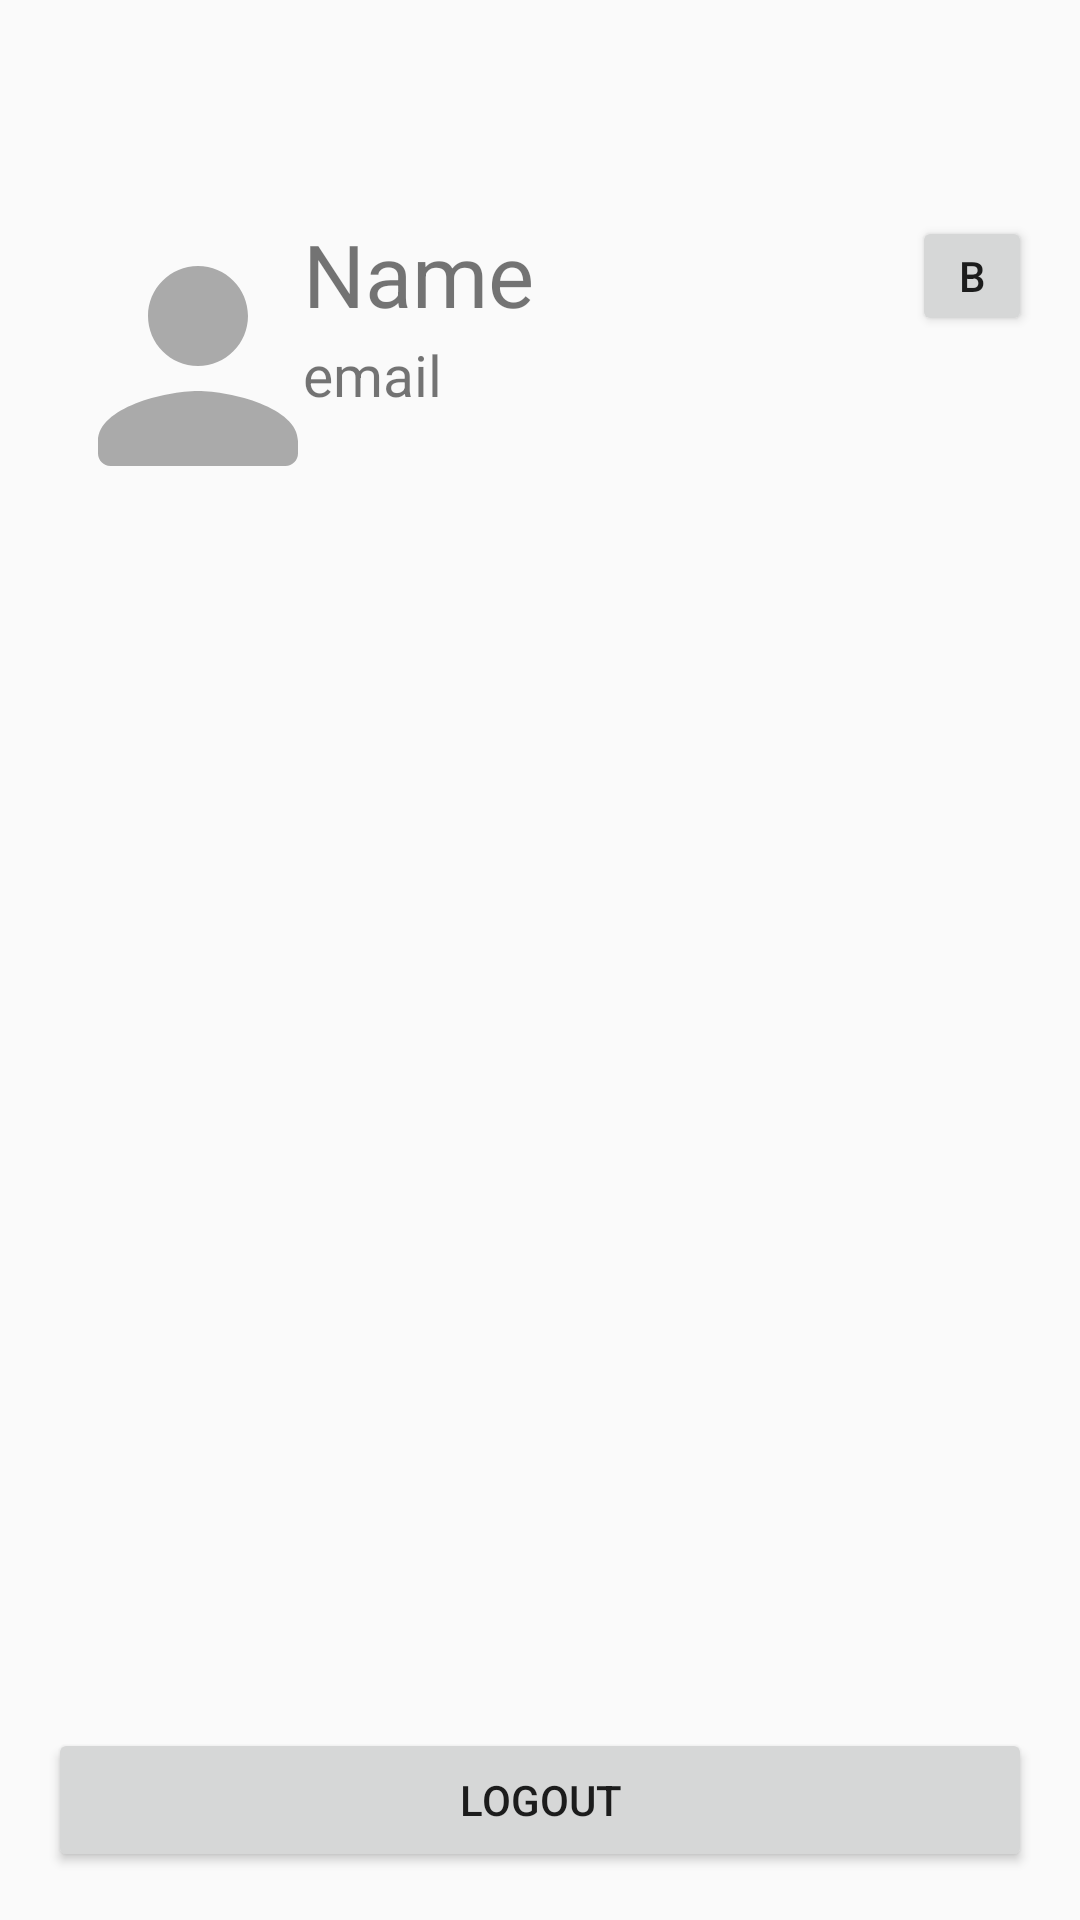

Screen size 1080×1920. Icon name, then its box in pixels as (x1, y1, x2, y2):
person: (98, 266, 331, 466)
